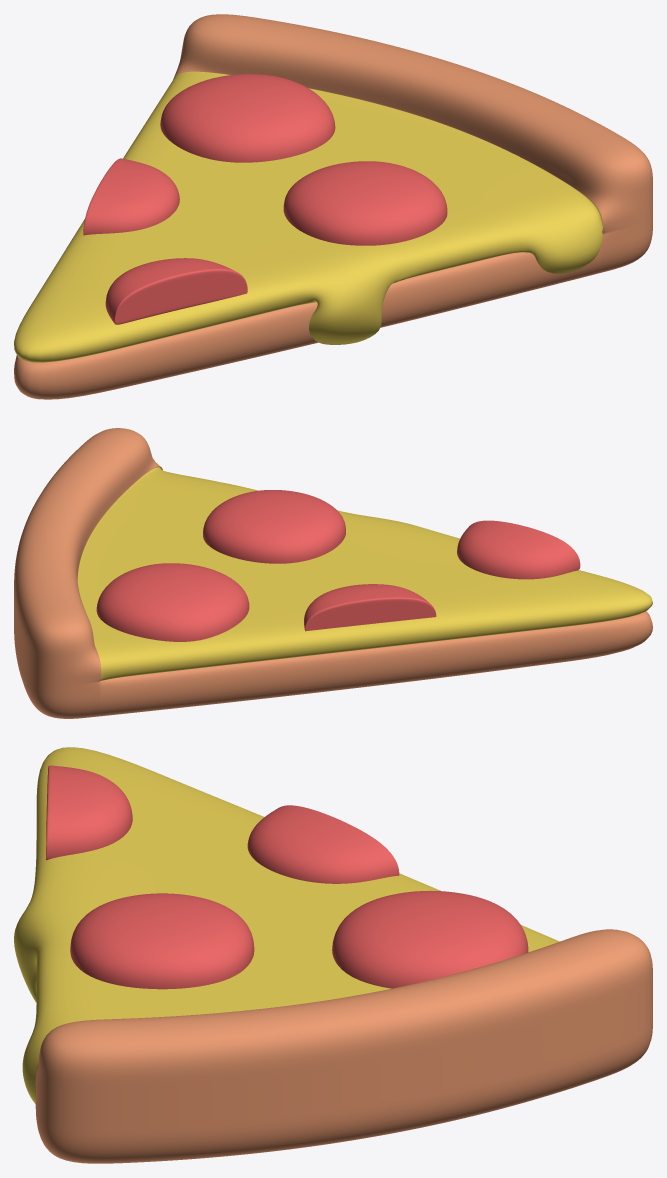
The model's file is pizza.fbx.
3 renders of one model, top to bottom at view 1: azimuth 30°, elevation 25°; view 2: azimuth 150°, elevation 25°; view 3: azimuth 270°, elevation 25°, orthographic. The views are drawn at different scales.
Visible parts, largest first — view 1: Cheese, Base, Salami001, Salami003, Salami004, Salami002; view 2: Cheese, Base, Salami001, Salami003, Salami004, Salami002; view 3: Base, Cheese, Salami003, Salami001, Salami002, Salami004.
Part boxes in pixels (box(x1,y1,x2,y2)): Cheese: box(14, 71, 603, 362); Base: box(14, 14, 652, 399); Salami001: box(160, 74, 335, 162); Salami003: box(283, 161, 447, 245); Salami004: box(105, 258, 247, 324); Salami002: box(83, 158, 179, 235); Cheese: box(77, 466, 652, 680); Base: box(14, 428, 652, 718); Salami001: box(96, 563, 249, 641); Salami003: box(203, 490, 345, 563); Salami004: box(457, 520, 580, 579); Salami002: box(304, 584, 436, 631); Base: box(35, 929, 652, 1163); Cheese: box(14, 747, 559, 1103); Salami003: box(70, 893, 254, 989); Salami001: box(332, 890, 528, 988); Salami002: box(247, 805, 399, 883); Salami004: box(46, 765, 132, 860).
Size of the model in its own units: 84.09 by 15.46 by 63.84.
